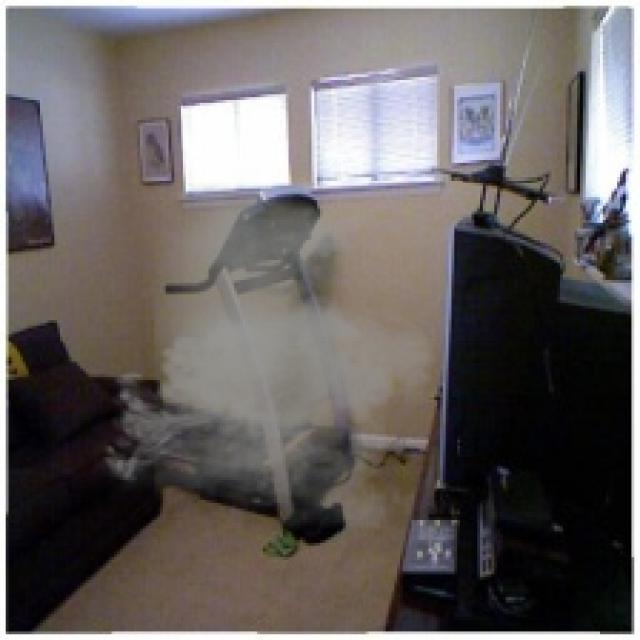smoke: (91, 183, 448, 528)
